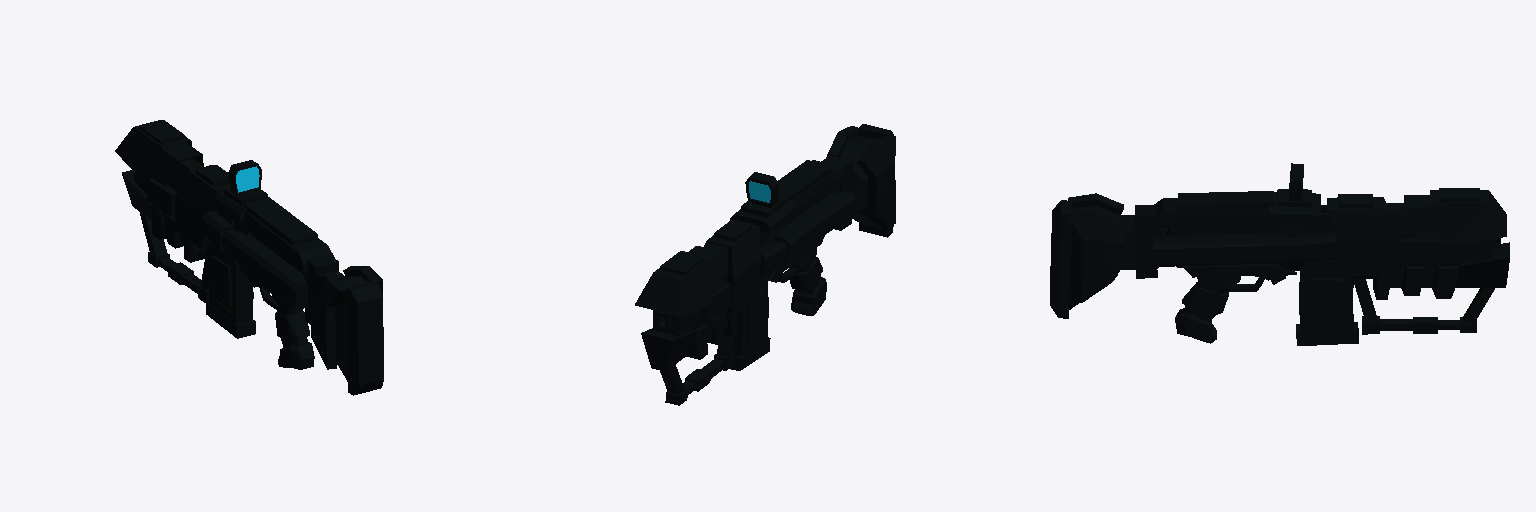
Rendered from machinegun.obj.
3 views of the same model, side by side, from view 1: azimuth 30°, elevation 25°; view 2: azimuth 150°, elevation 25°; view 3: azimuth 270°, elevation 25° (orthographic).
Visible parts, largest first — view 1: Shotgun; view 2: Shotgun; view 3: Shotgun.
Part boxes in pixels (left/top/right/bottom): Shotgun: left=115, top=120, right=383, bottom=395; Shotgun: left=635, top=124, right=895, bottom=405; Shotgun: left=1050, top=163, right=1509, bottom=345.
Size of the model in its own units: 0.059 by 0.1682 by 0.4051.